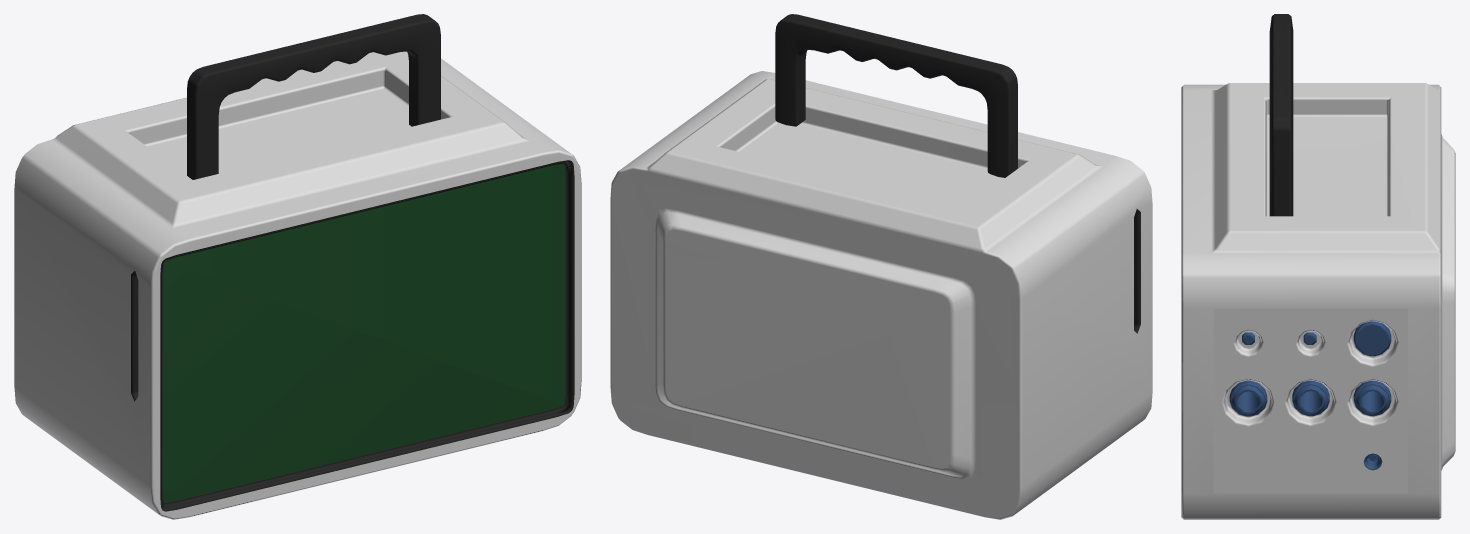
File: Monitor.fbx
3 views of the same model, side by side, from view 1: azimuth 30°, elevation 25°; view 2: azimuth 150°, elevation 25°; view 3: azimuth 270°, elevation 25° (orthographic). The views are drawn at different scales.
Visible parts, largest first — view 1: Monitor; view 2: Monitor; view 3: Monitor.
Part boxes in pixels (left/top/right/bottom): Monitor: left=14, top=14, right=581, bottom=519; Monitor: left=610, top=14, right=1152, bottom=519; Monitor: left=1181, top=14, right=1455, bottom=519.
Size of the model in its own units: 40.82 by 37.08 by 23.99.
